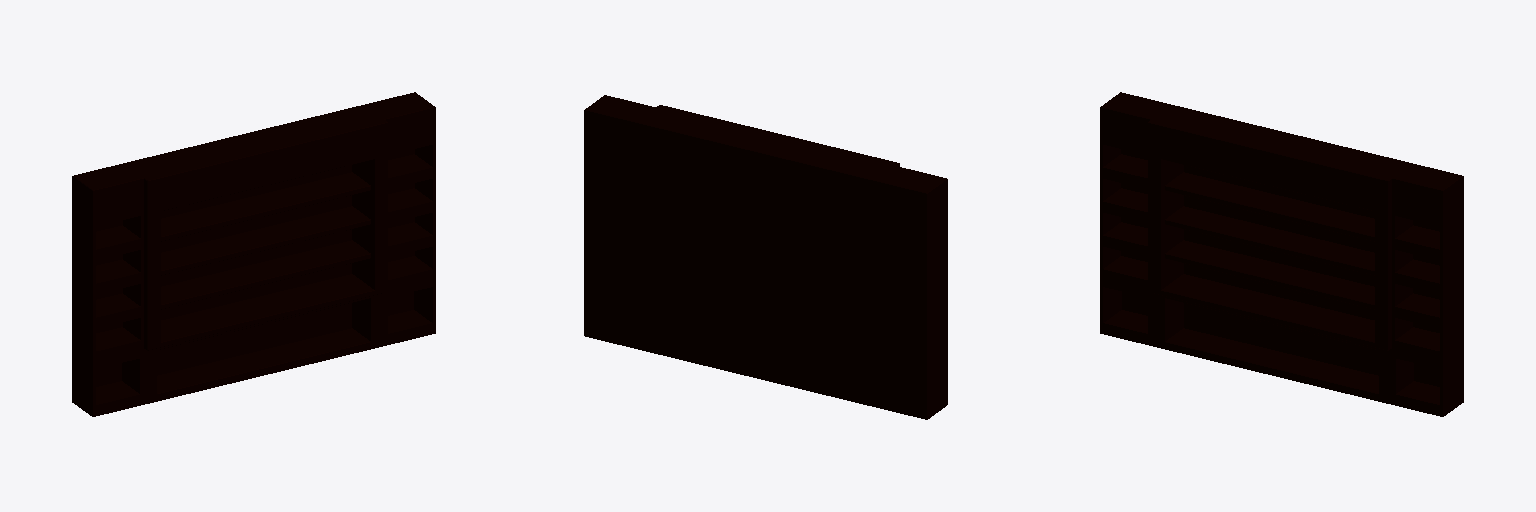
Rendered from LargeBookShelf1.obj.
3 renders of one model, left to right at view 1: azimuth 30°, elevation 25°; view 2: azimuth 150°, elevation 25°; view 3: azimuth 330°, elevation 25°, orthographic.
Parts seen in each view (by area): view 1: LargeBookShelf1_Cube.014; view 2: LargeBookShelf1_Cube.014; view 3: LargeBookShelf1_Cube.014.
Boxes of the visible parts, <box> form: LargeBookShelf1_Cube.014: <box>72,92,435,416</box>; LargeBookShelf1_Cube.014: <box>584,95,947,419</box>; LargeBookShelf1_Cube.014: <box>1100,92,1463,416</box>.
Size of the model in its own units: 3.86 by 2.44 by 0.4747.